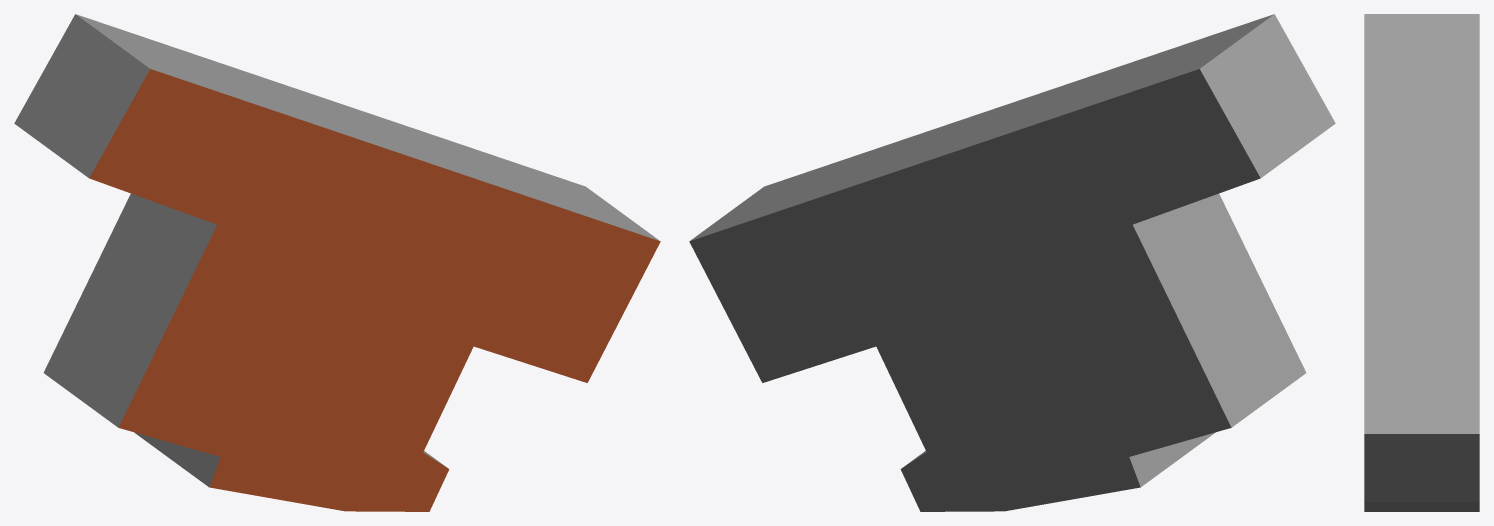
File: construction_3069_assumed_A_Casa_h6m.obj
The picture shows the model from 3 angles, left to right: view 1: azimuth 30°, elevation 25°; view 2: azimuth 150°, elevation 25°; view 3: azimuth 270°, elevation 25°; orthographic projection. The views are drawn at different scales.
Parts seen in each view (by area): view 1: construction_3069_assumed_A_Casa; view 2: construction_3069_assumed_A_Casa; view 3: construction_3069_assumed_A_Casa.
Boxes of the visible parts, left/top/right/bottom form: construction_3069_assumed_A_Casa: left=14, top=14, right=660, bottom=511; construction_3069_assumed_A_Casa: left=689, top=14, right=1335, bottom=511; construction_3069_assumed_A_Casa: left=1364, top=14, right=1479, bottom=511.
Size of the model in its own units: 26.41 by 22.57 by 6.
